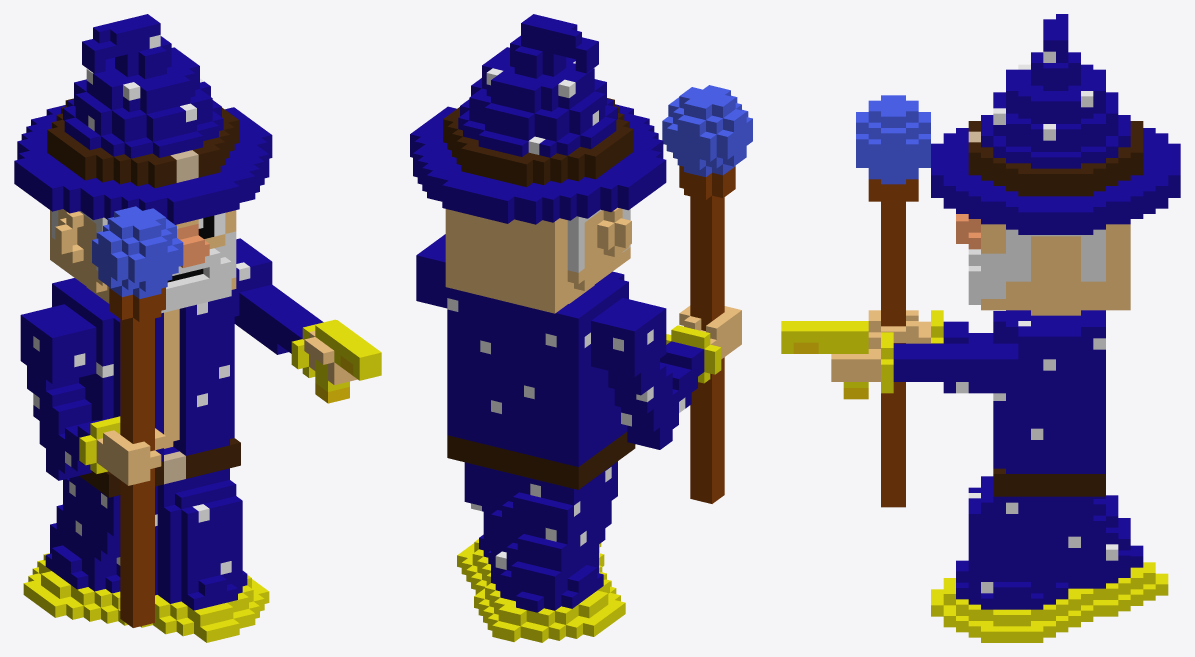
File: Player1.obj
The picture shows the model from 3 angles, left to right: view 1: azimuth 30°, elevation 25°; view 2: azimuth 150°, elevation 25°; view 3: azimuth 270°, elevation 25°; orthographic projection.
Bounding box in the file's own units: 2.2 × 5 × 3.2.
